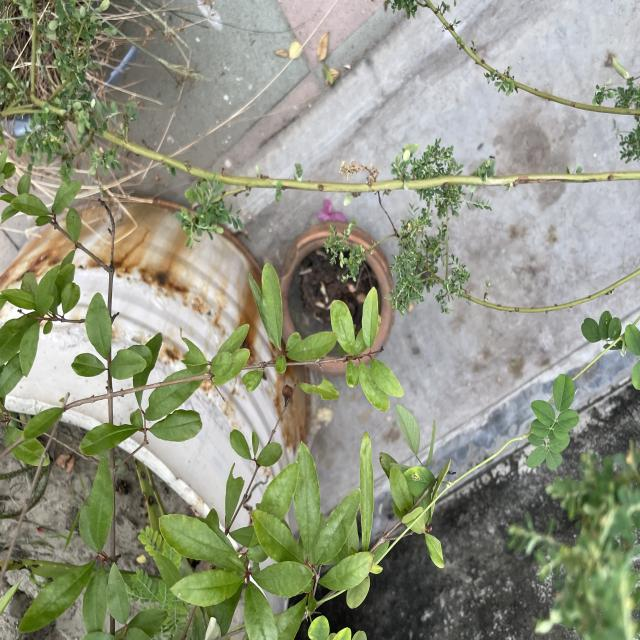Breeding Place: (0, 193, 310, 640), (278, 220, 390, 372)
